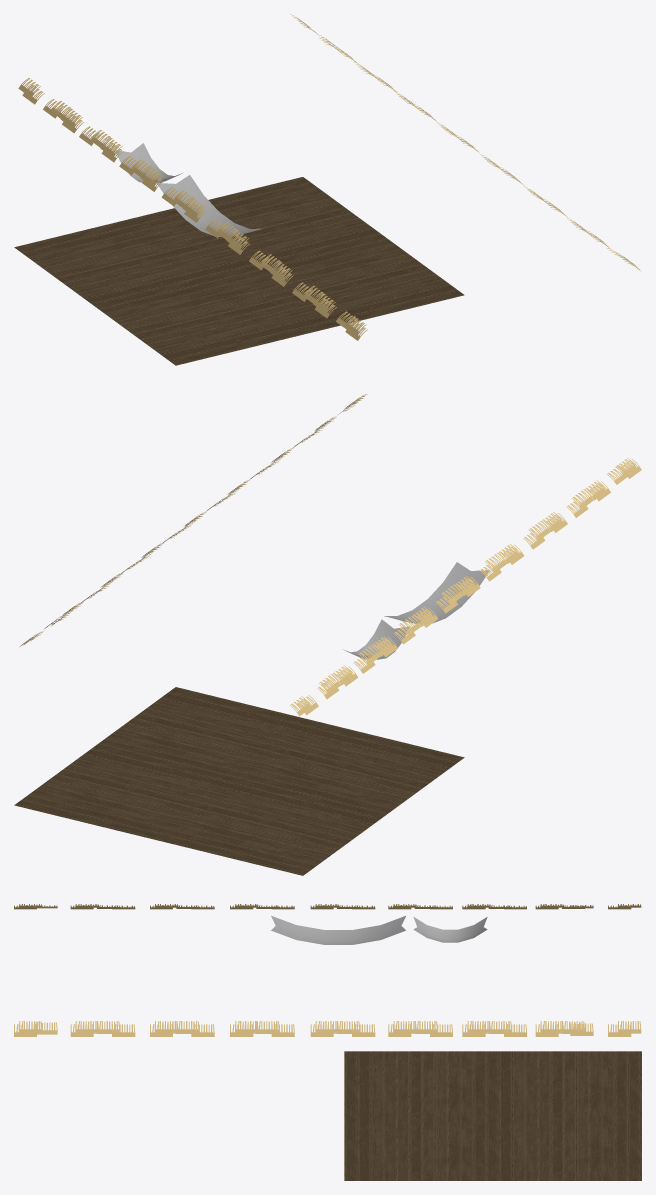
File: Cabin_Blockout_13.fbx
3 views of the same model, one above another, from view 1: azimuth 30°, elevation 25°; view 2: azimuth 150°, elevation 25°; view 3: azimuth 270°, elevation 25° (orthographic). The views are drawn at different scales.
Parts seen in each view (by area): view 1: polySurface3617; view 2: polySurface3617; view 3: polySurface3617.
Boxes of the visible parts, x1,y1,x2,y2 form: polySurface3617: (14,14,640,365); polySurface3617: (14,394,641,875); polySurface3617: (14,904,641,1180).
Size of the model in its own units: 860 by 475 by 1759.
